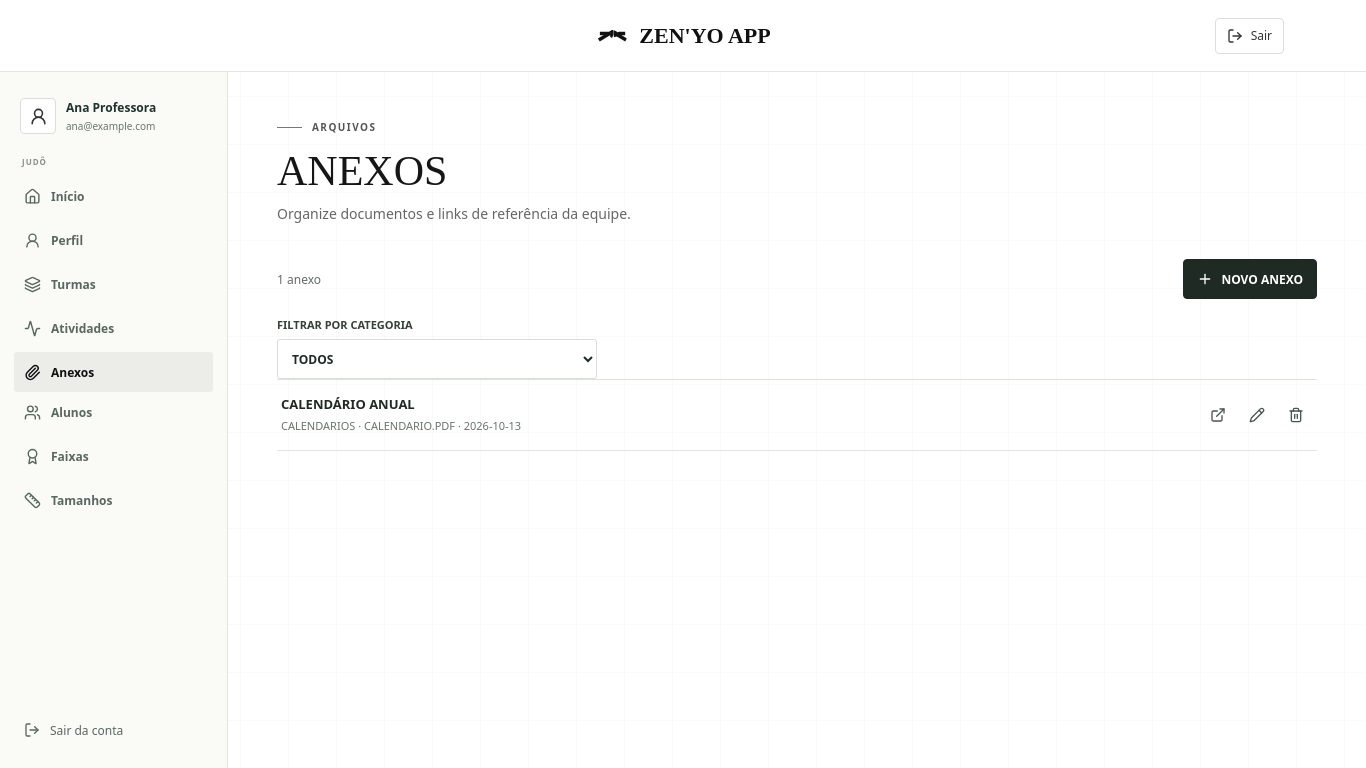
Test case: telas conectadas aos recursos FastAPI › filtra anexos por categoria começando em Todos
The width and height of the screenshot is (1366, 768).
expect the text "Calendário anual" is shown: met, box [281,395,415,413]
Select "Fichas" in the dropdown labelled "Filtrar por categoria" at x=437, y=359, box [277,339,597,379]
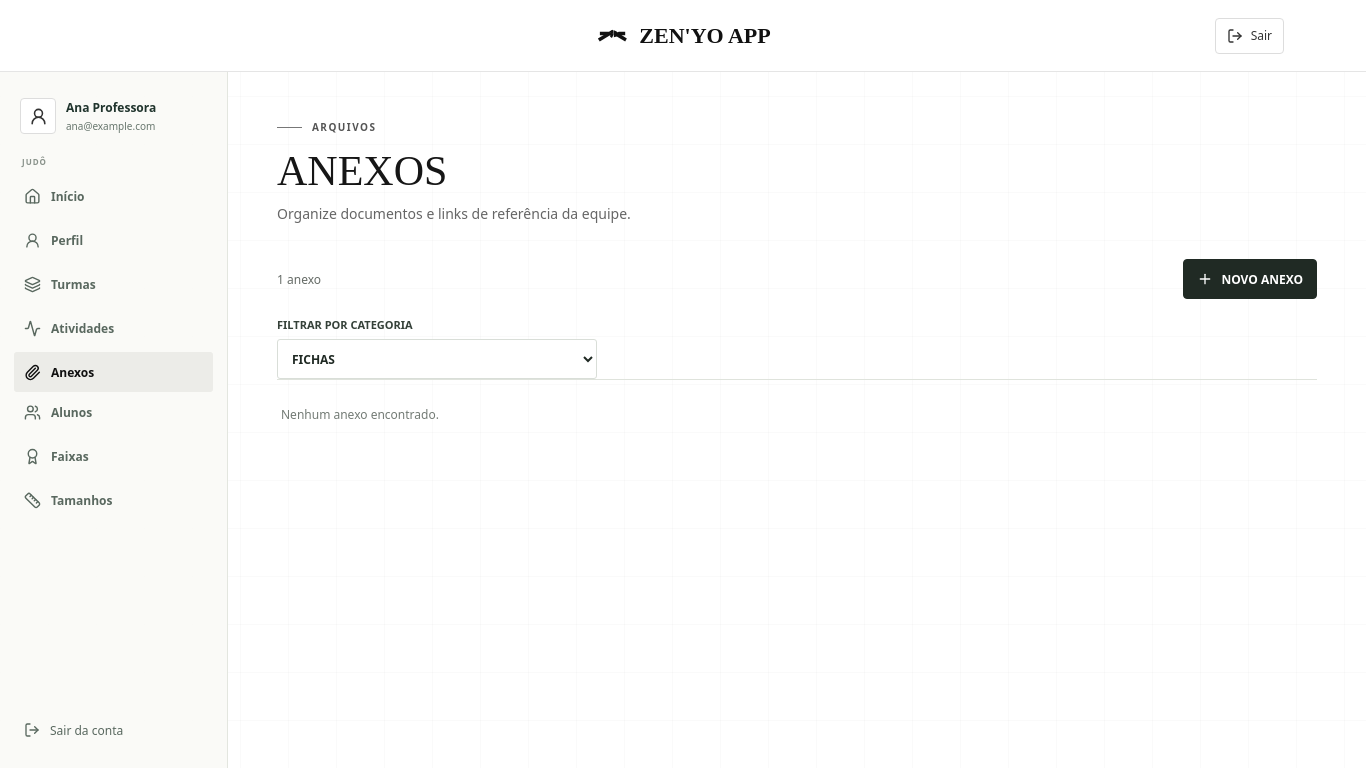
expect the button "Calendário anual" is gone: met
